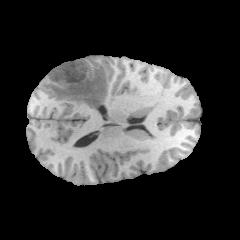glioma: (41, 60, 112, 110)
